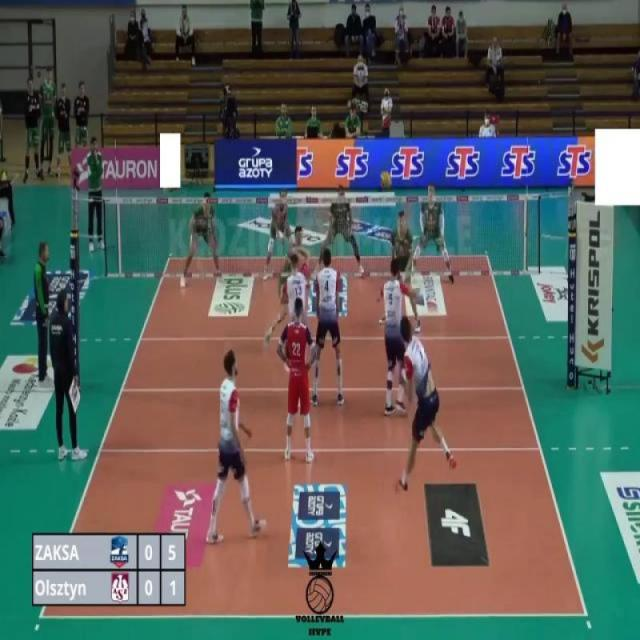volleyball: (379, 169, 393, 191)
